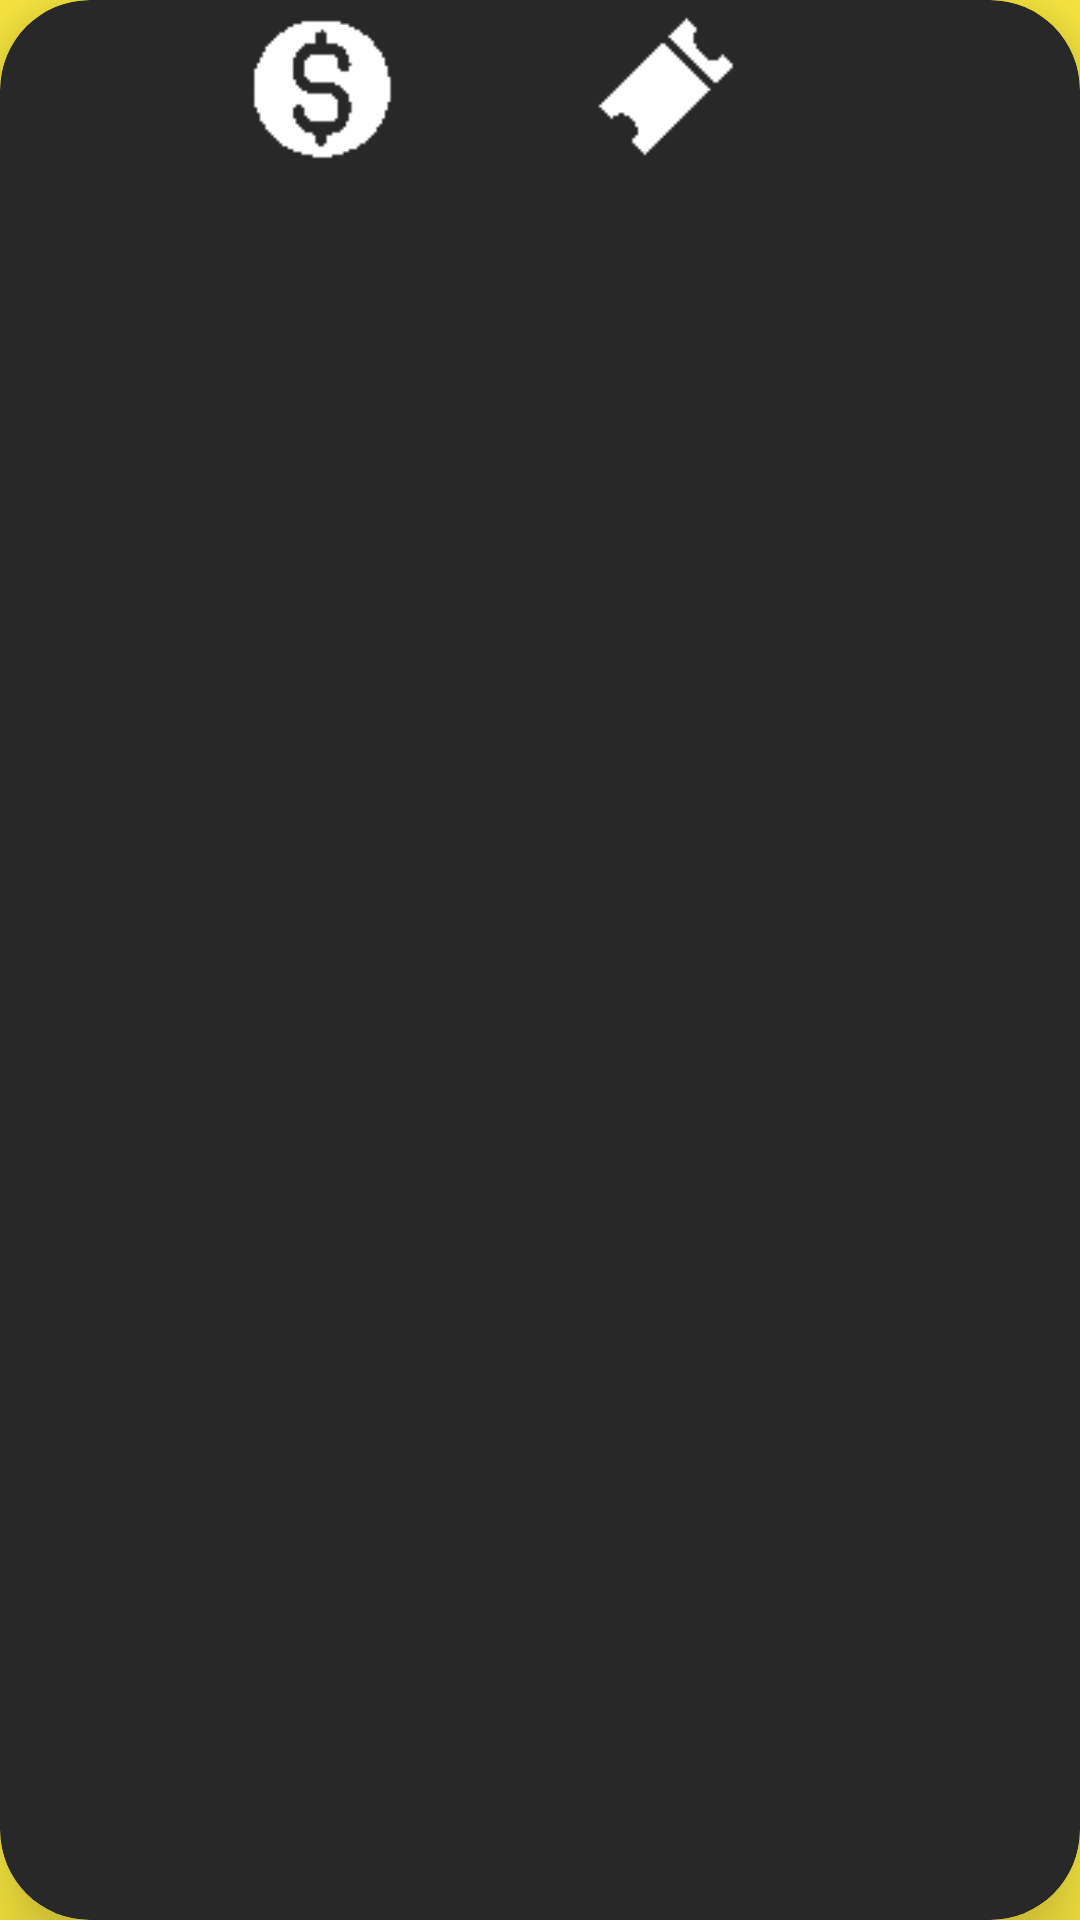

Point at icon controls on the screen. Image size 1080px×1920px, points as (x=x, y=y).
coin: (x=322, y=89)
ticket: (x=666, y=86)
